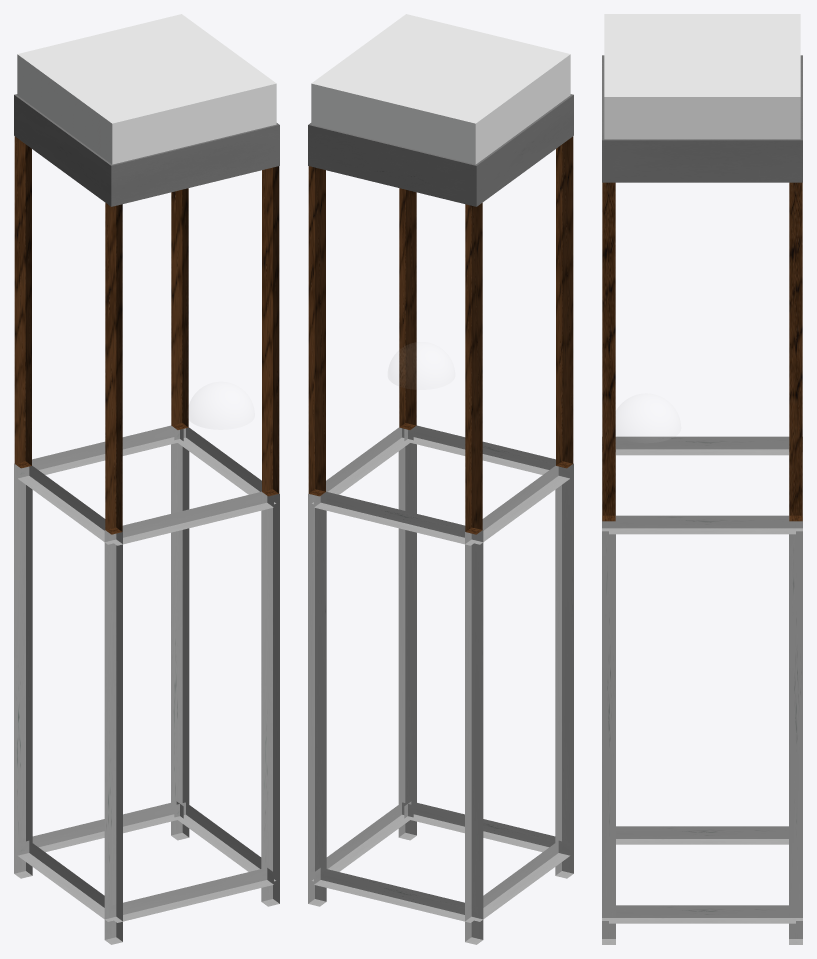
Rendered from baseCentro.gltf.
3 renders of one model, left to right at view 1: azimuth 30°, elevation 25°; view 2: azimuth 150°, elevation 25°; view 3: azimuth 270°, elevation 25°, orthographic. The views are drawn at different scales.
Visible parts, largest first — view 1: Default-metais, Default-poliestireno, Default-Cedro, Default-Latão 3; view 2: Default-metais, Default-poliestireno, Default-Cedro, Default-Latão 3; view 3: Default-metais, Default-poliestireno, Default-Cedro, Default-Latão 3.
Part boxes in pixels (x1,y1,x2,y2): Default-metais: [14, 425, 279, 944]; Default-poliestireno: [17, 14, 276, 164]; Default-Cedro: [14, 136, 279, 534]; Default-Latão 3: [14, 94, 279, 206]; Default-metais: [308, 425, 573, 944]; Default-poliestireno: [311, 14, 570, 164]; Default-Cedro: [308, 136, 573, 534]; Default-Latão 3: [308, 94, 573, 206]; Default-metais: [602, 436, 802, 944]; Default-poliestireno: [604, 14, 800, 139]; Default-Cedro: [602, 182, 802, 521]; Default-Latão 3: [602, 55, 802, 182].
Bounding box in the file's own units: 43 × 200 × 43.
6 materials, 4 textured.
